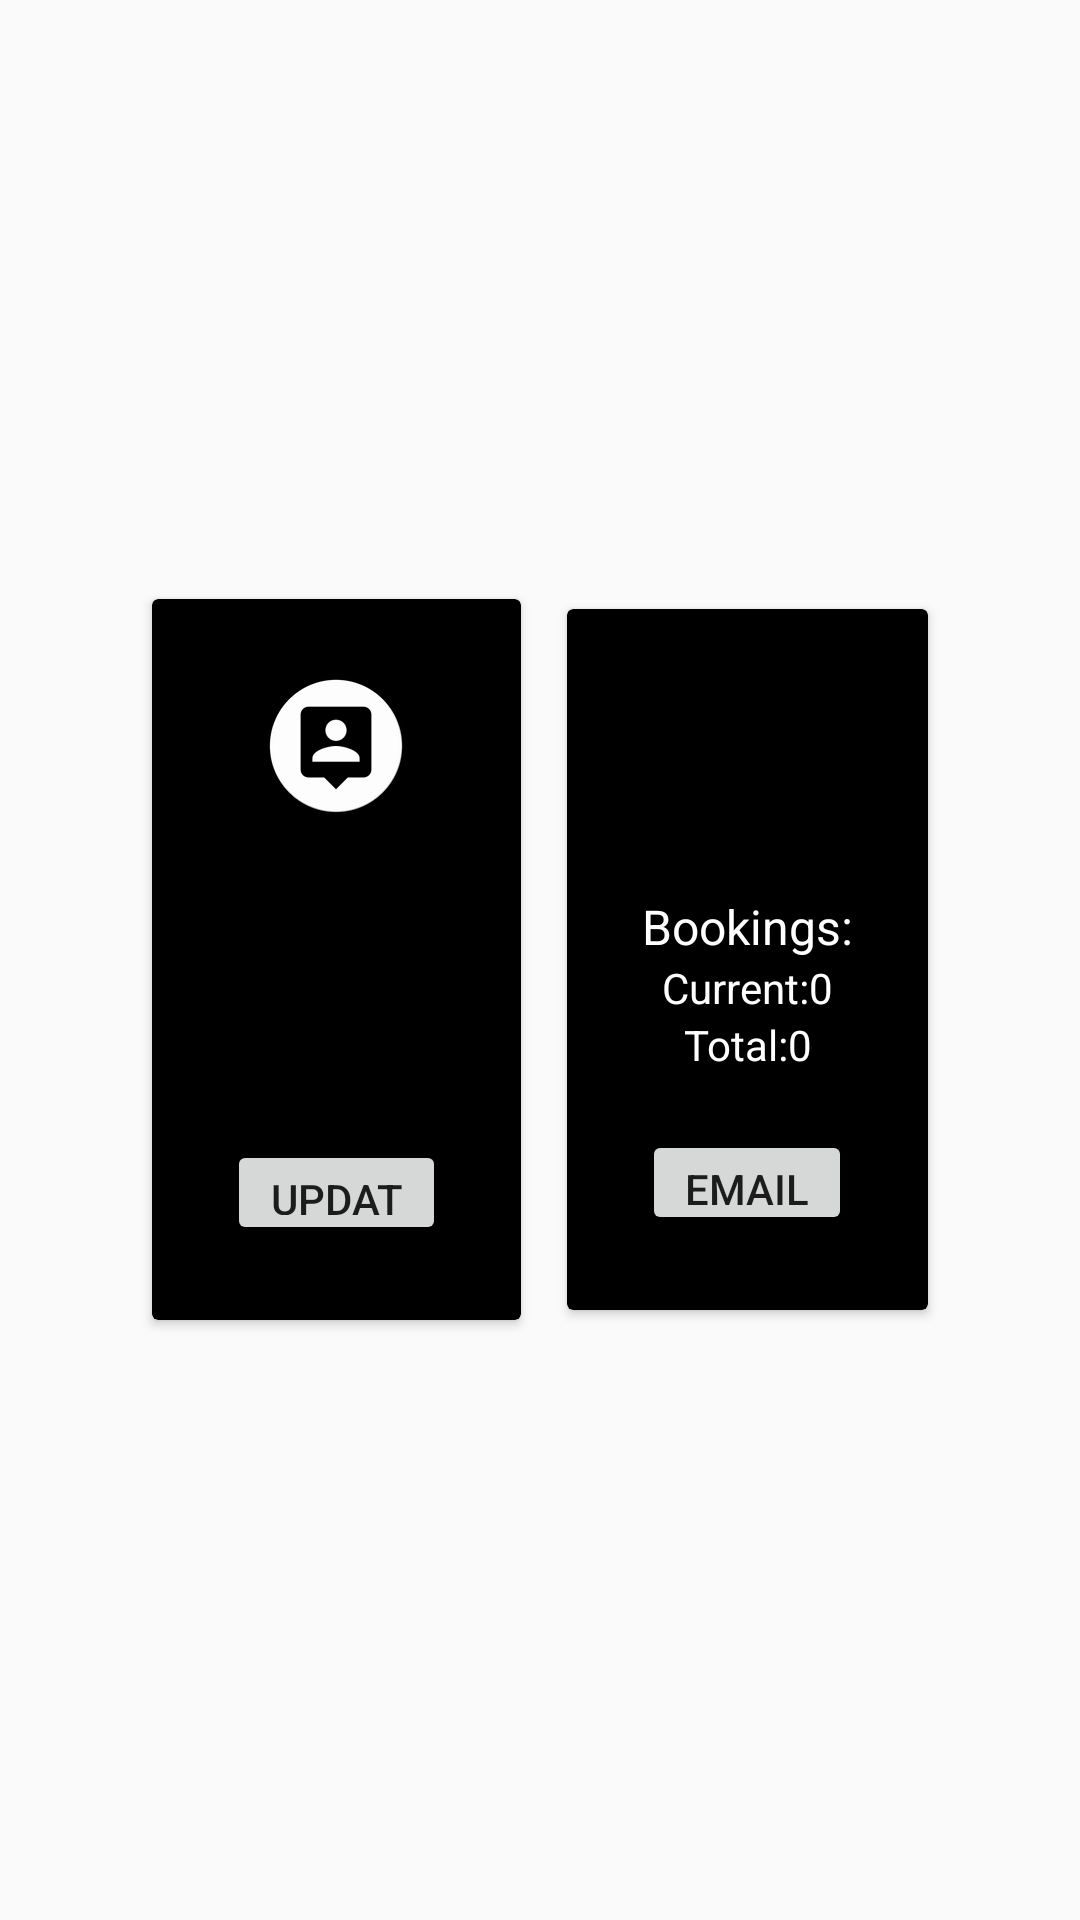

Screen size 1080w x 1920h. Icon name, then its box in pixels as (x1, y1, x2, y2):
people: (269, 679, 403, 812)
